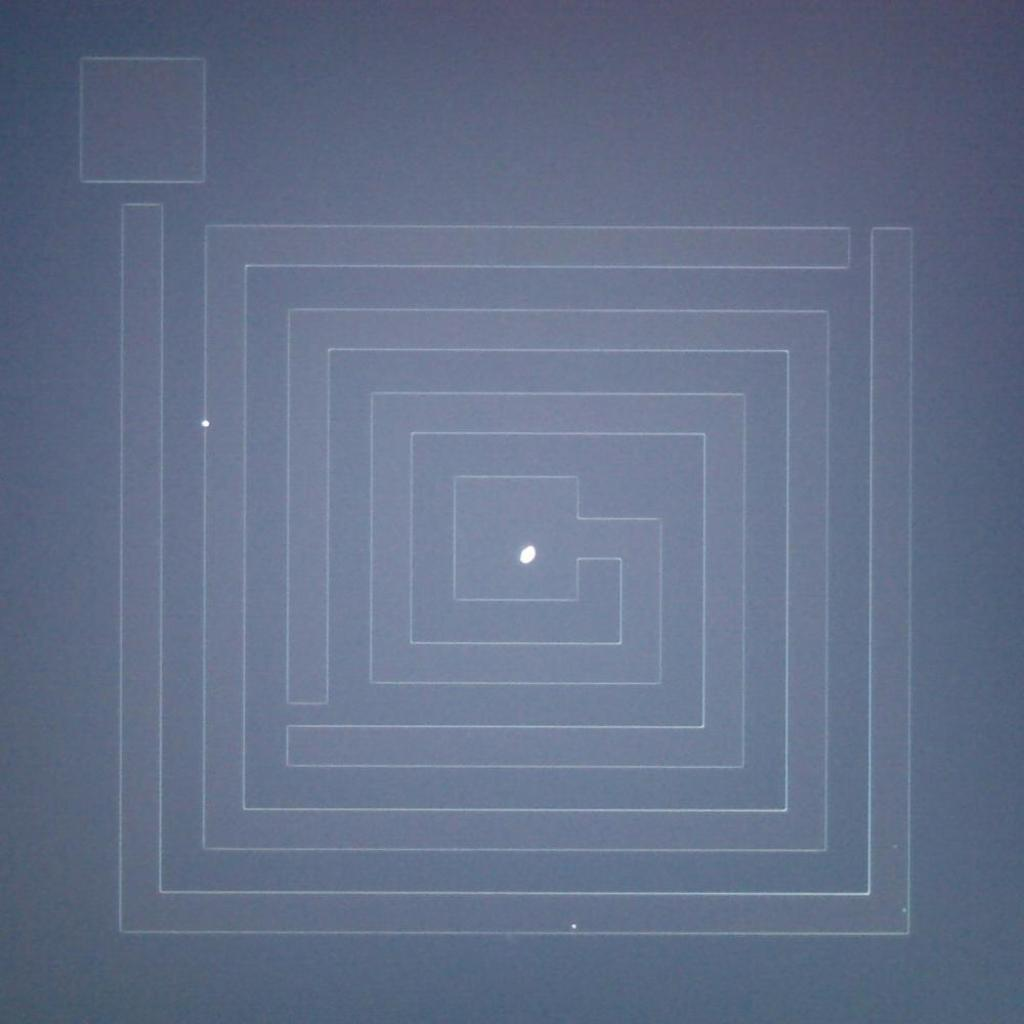Bdot: (519, 545, 537, 564)
dot: (202, 420, 210, 426), (572, 924, 576, 928)
